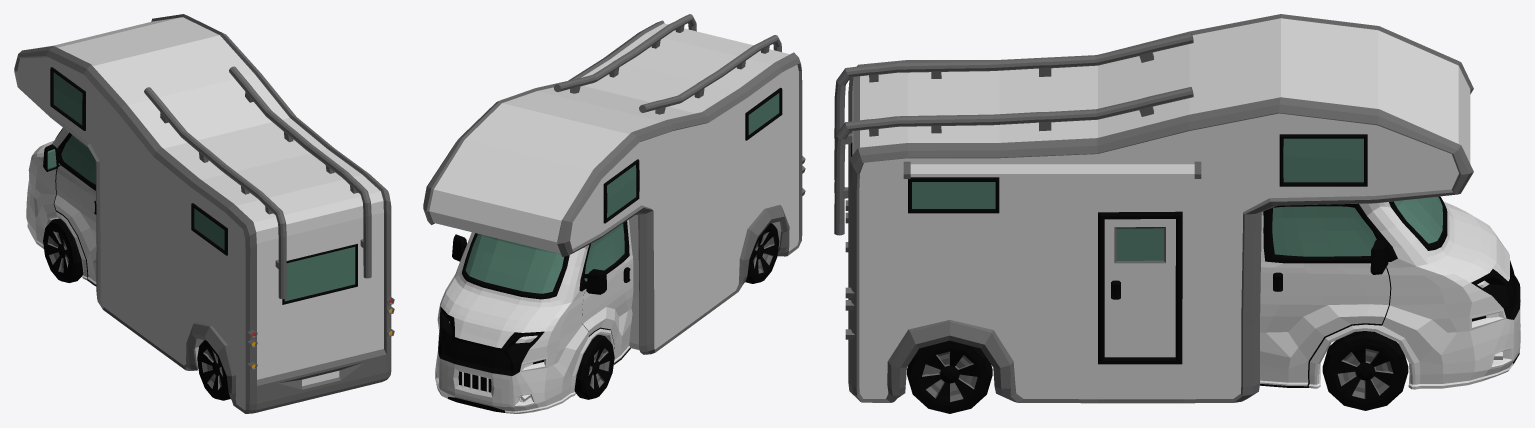
File: faretto.fbx
3 views of the same model, side by side, from view 1: azimuth 30°, elevation 25°; view 2: azimuth 150°, elevation 25°; view 3: azimuth 270°, elevation 25° (orthographic). The views are drawn at different scales.
Visible parts, largest first — view 1: Cube.001; view 2: Cube.001; view 3: Cube.001.
Boxes of the visible parts, bbox=[...] form: Cube.001: bbox=[14, 14, 394, 413]; Cube.001: bbox=[423, 14, 805, 413]; Cube.001: bbox=[834, 14, 1520, 413].
Bounding box in the file's own units: 221 × 324 × 640.
